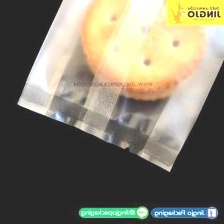snack: (11, 0, 224, 177)
